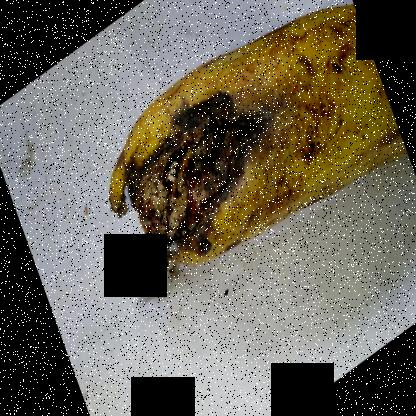ripe: (272, 0, 415, 190)
rotten: (110, 76, 311, 310)
